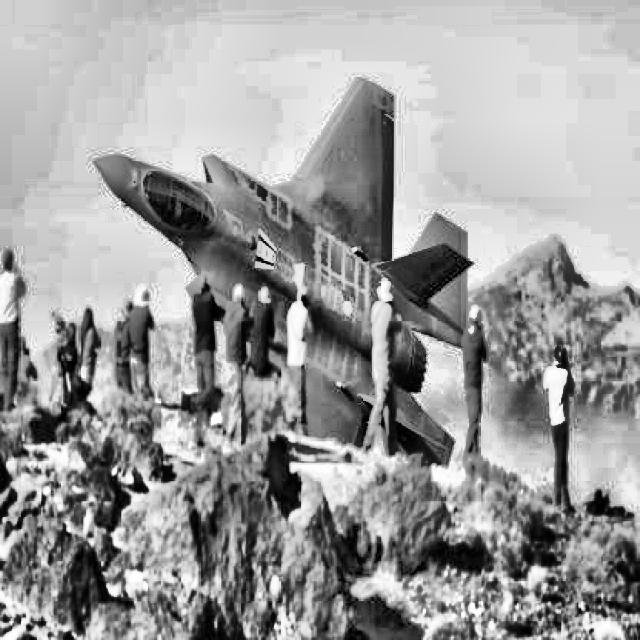F35: (93, 76, 475, 470)
